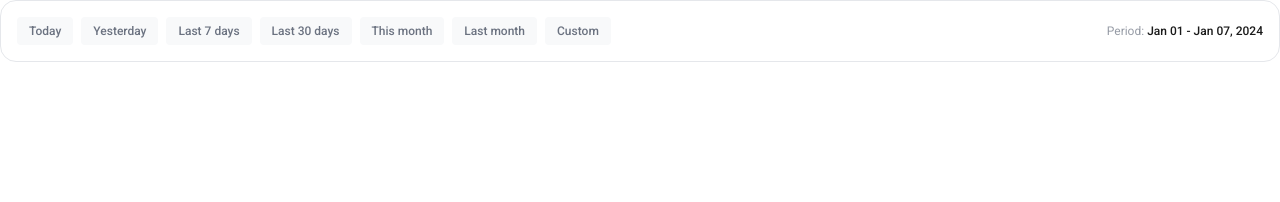
Test: DateRangePicker › should clear error on successful date selection
Open custom picker
Click the button "Custom": click(578, 31) [545,17,611,45]
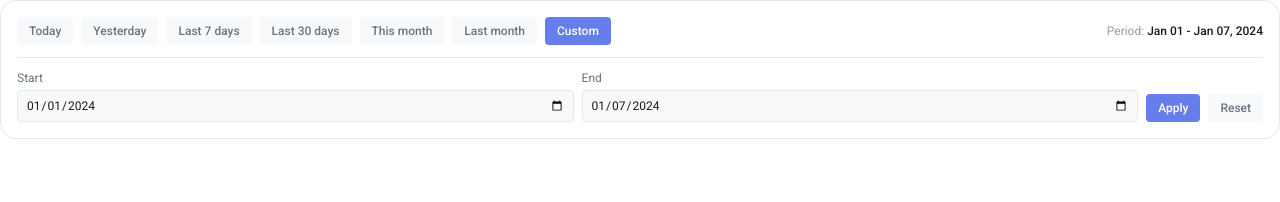
First trigger error
In the date field labelled "Start": (295, 106) [17,90,574,122], type "2024-12-31"
In the date field labelled "End": (860, 106) [582,90,1138,122], type "2024-01-01"
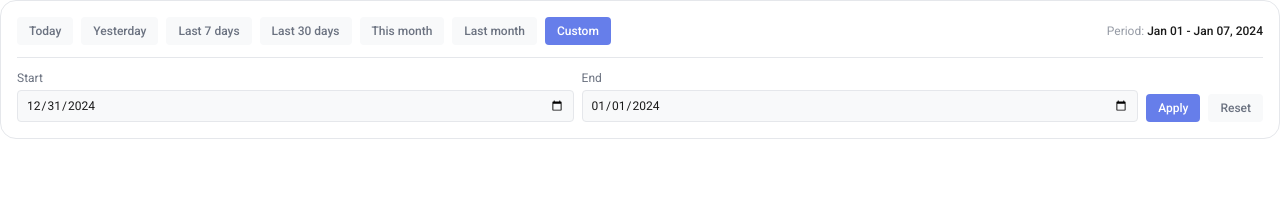
Click the button "Apply": click(1173, 108) [1146,94,1200,122]
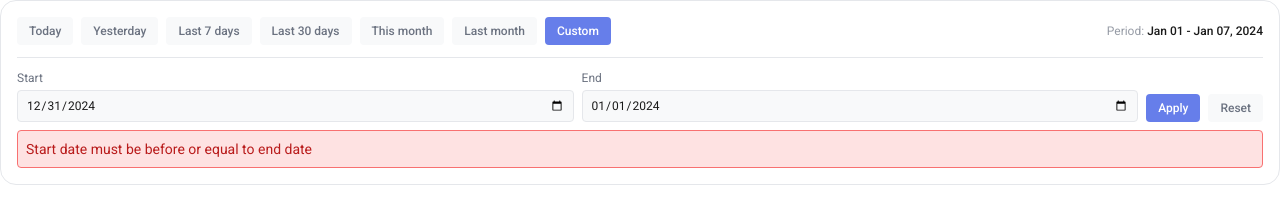
Expected: the text "Start date must be before or equal to end date" is shown, [17,130,1263,168]
Now fix the dates
In the date field labelled "Start": (295, 106) [17,90,574,122], type "2024-01-01"
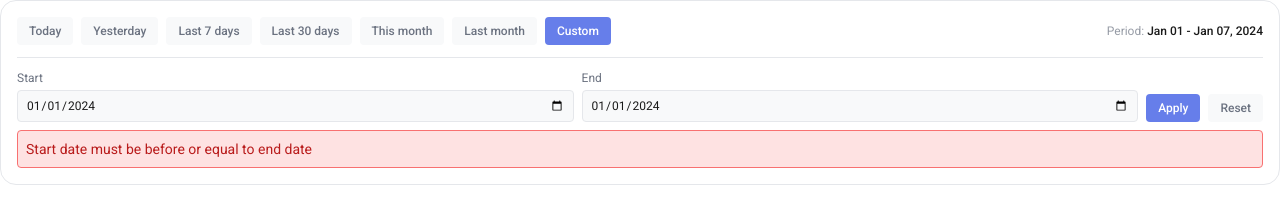
In the date field labelled "End": (860, 106) [582,90,1138,122], type "2024-01-31"
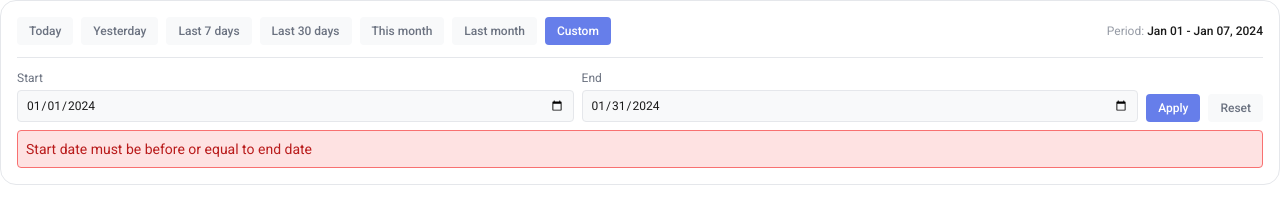
Click the button "Apply": click(1173, 108) [1146,94,1200,122]
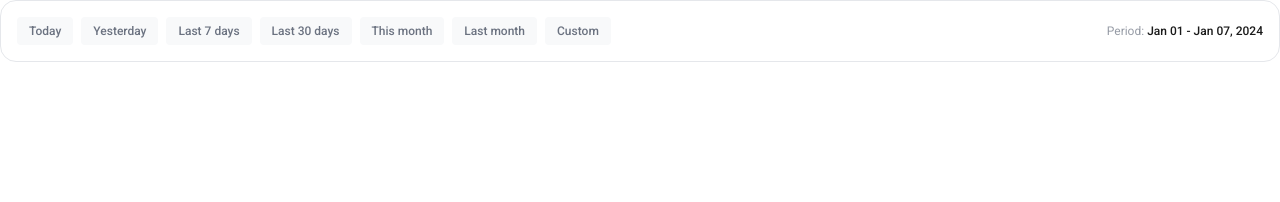
Expected: the text "Start date must be before or equal to end date" is gone
